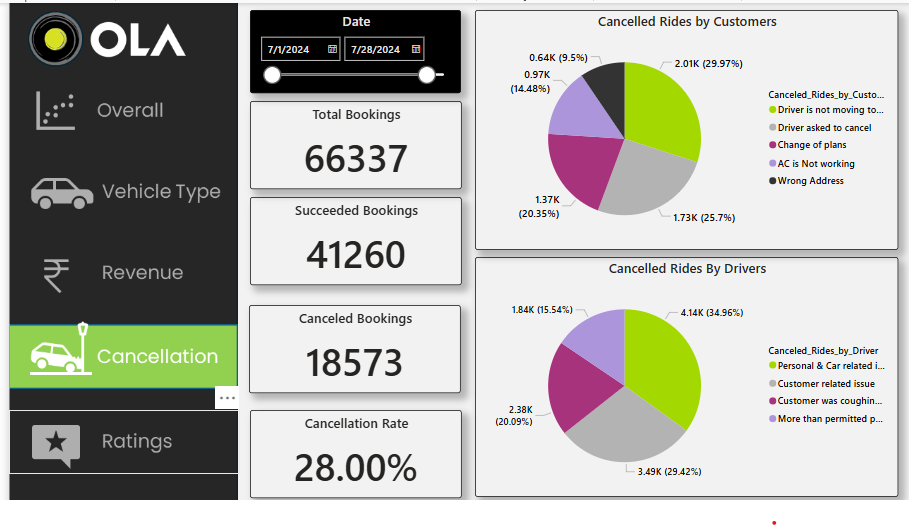

Layout of this report page (visuals, bound fields, positions):
{"tool":"powerbi","page":{"name":"Cancellation","canvas":[1280,720],"ordinal":3},"visuals":[{"type":"actionButton","box":[0,576.9,327.4,90.7],"z":0},{"type":"actionButton","box":[0,109.1,327.4,90.7],"z":1000},{"type":"actionButton","box":[0,338.7,327.4,90.7],"z":2000},{"type":"actionButton","box":[0,221.1,327.4,90.7],"z":3000},{"type":"pieChart","title":"Cancelled Rides by Customers","fields":{"Category":["July.Canceled_Rides_by_Customer"],"Y":["CountNonNull(July.Canceled_Rides_by_Customer)"]},"box":[660,10,600,340],"z":4000},{"type":"pieChart","title":"Cancelled Rides By Drivers","fields":{"Category":["July.Canceled_Rides_by_Driver"],"Y":["CountNonNull(July.Canceled_Rides_by_Driver)"]},"box":[660,360,600,340],"z":5000},{"type":"slicer","title":"Date","fields":{"Values":["July.Date"]},"box":[341.6,9.9,299.1,117.6],"z":6000},{"type":"card","title":"Total Bookings","fields":{"Values":["July.total booking"]},"box":[341.7,138.3,300,125],"z":7000},{"type":"card","title":"Succeeded Bookings","fields":{"Values":["Count(July.Booking_ID)"]},"box":[341.7,275,300,125],"z":8000},{"type":"card","title":"Canceled Bookings","fields":{"Values":["July.canceled booking"]},"box":[340,428.3,300,125],"z":9000},{"type":"card","title":"Cancellation Rate","fields":{"Values":["July.Canceled Percentage"]},"box":[341.7,576.7,300,125],"z":10000}]}

Visuals, with their boxes in screenshot pixels (x1, y1, x2, y2), scaled from the page's 1280x720 canvas onto the 909x526 screenshot:
actionButton: region(0, 421, 233, 488)
actionButton: region(0, 80, 233, 146)
actionButton: region(0, 247, 233, 314)
actionButton: region(0, 162, 233, 228)
"Cancelled Rides by Customers" pieChart: region(469, 7, 895, 256)
"Cancelled Rides By Drivers" pieChart: region(469, 263, 895, 511)
"Date" slicer: region(243, 7, 455, 93)
"Total Bookings" card: region(243, 101, 456, 192)
"Succeeded Bookings" card: region(243, 201, 456, 292)
"Canceled Bookings" card: region(241, 313, 454, 404)
"Cancellation Rate" card: region(243, 421, 456, 513)
